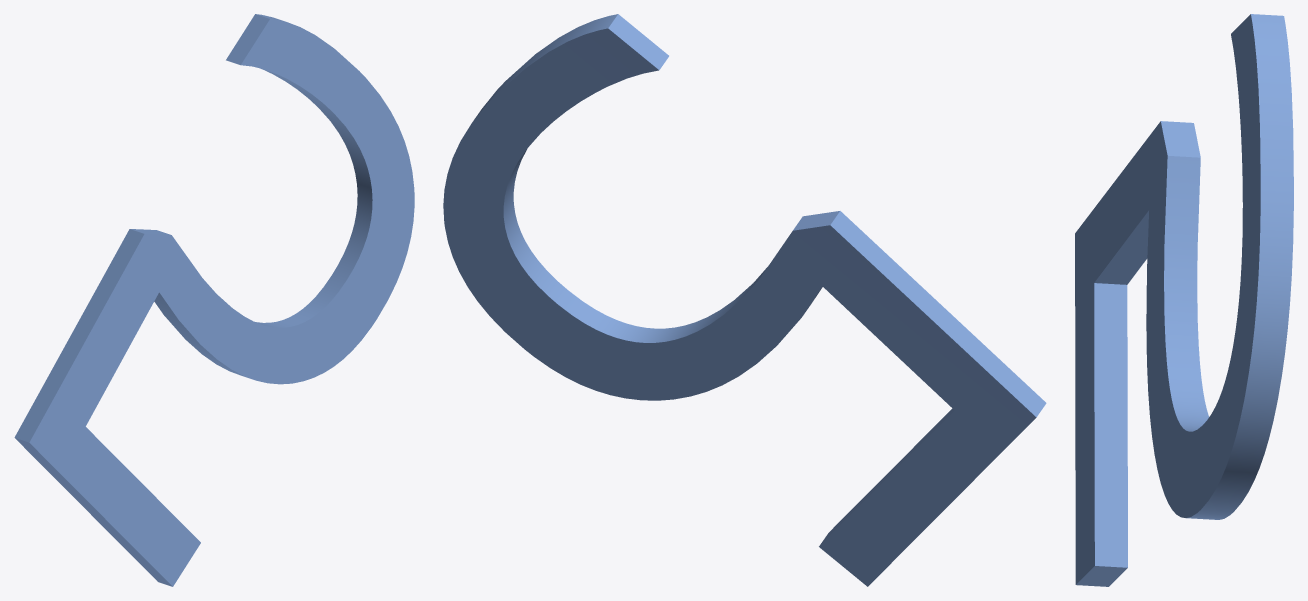
The model's file is New_Number_5.gltf.
3 renders of one model, left to right at view 1: azimuth 30°, elevation 25°; view 2: azimuth 150°, elevation 25°; view 3: azimuth 270°, elevation 25°, orthographic. The views are drawn at different scales.
Parts seen in each view (by area): view 1: Part 419; view 2: Part 419; view 3: Part 419.
Part boxes in pixels (x1=…): Part 419: x1=14, y1=14, x2=414, y2=586; Part 419: x1=443, y1=14, x2=1046, y2=586; Part 419: x1=1075, y1=14, x2=1293, y2=586.
Bounding box in the file's own units: 0.00547 × 0.00567 × 0.00164.
